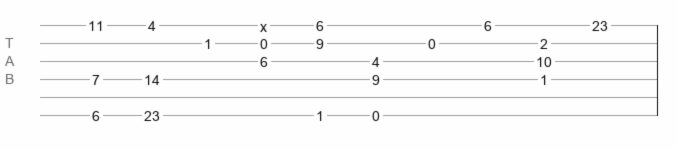0: (260, 36, 268, 46), (372, 108, 380, 118), (428, 36, 436, 46)
1: (204, 36, 212, 46), (316, 108, 324, 118), (540, 72, 548, 82)
10: (536, 54, 552, 64)
11: (88, 18, 104, 28)
14: (144, 72, 160, 82)
2: (540, 36, 548, 46)
23: (144, 108, 160, 118), (592, 18, 608, 28)
4: (148, 18, 156, 28), (372, 54, 380, 64)
6: (92, 108, 100, 118), (260, 54, 268, 64), (316, 18, 324, 28), (484, 18, 492, 28)
7: (92, 72, 100, 82)
9: (316, 36, 324, 46), (372, 72, 380, 82)
x: (260, 19, 267, 27)
